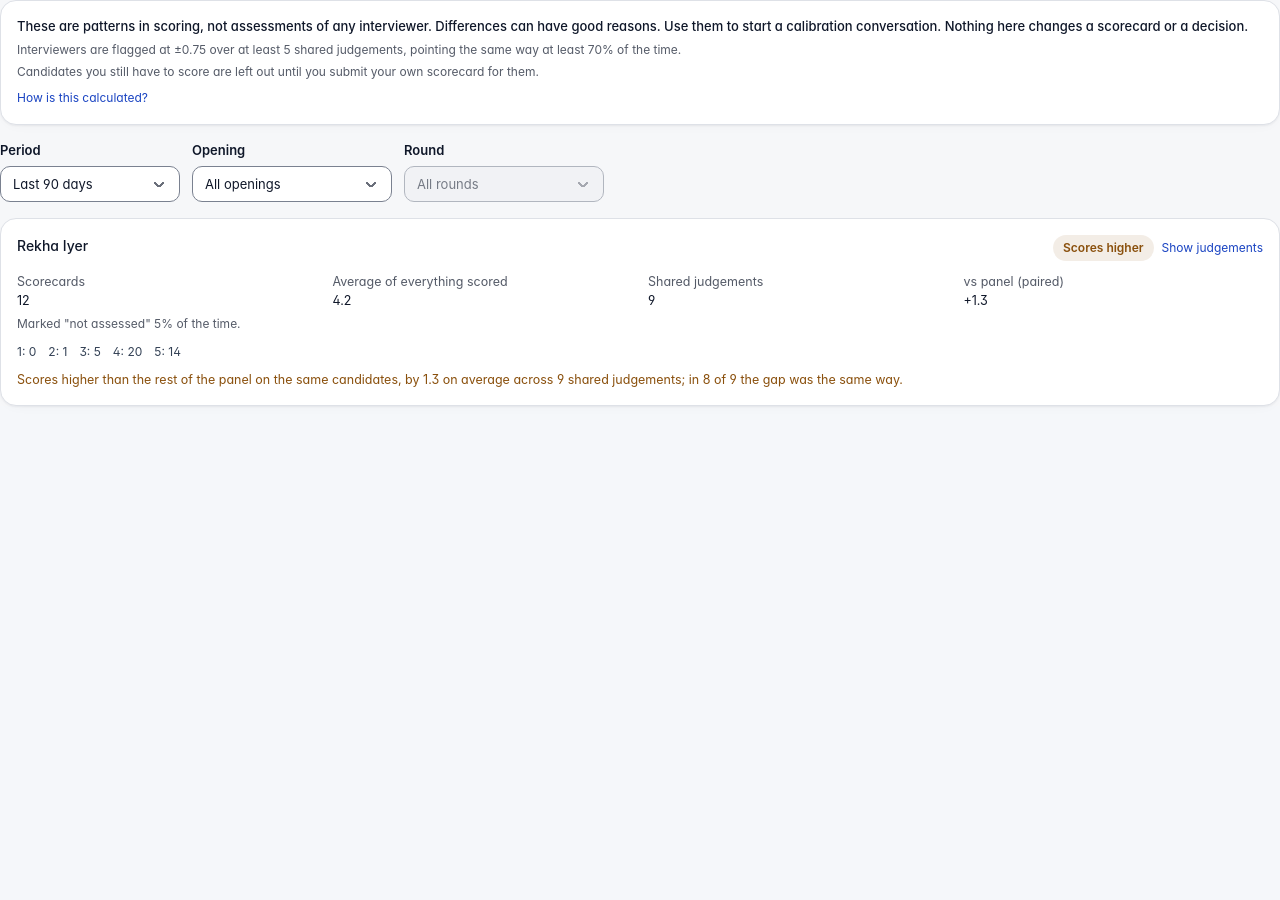
Test: CalibrationTab - judgements drill-down › shows the truncation notice
Click the button "Show judgements": {"x": 1212, "y": 248} [1162, 239, 1263, 257]
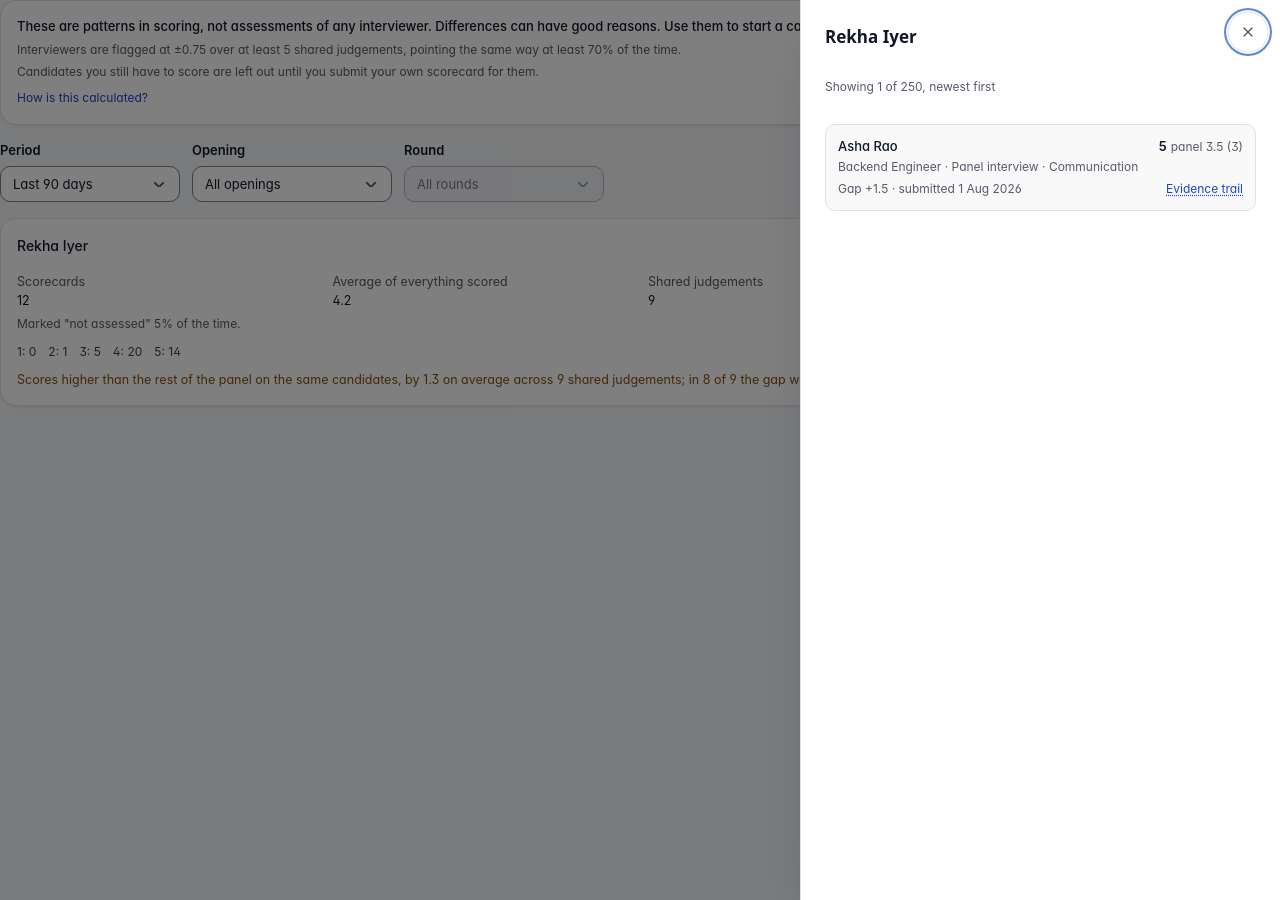
Now the text "Showing 1 of 250, newest first" is shown, box [825, 78, 995, 94]
